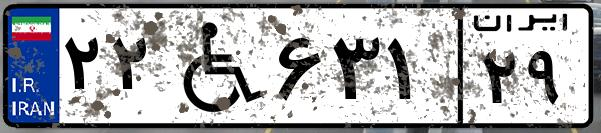1: (385, 28, 445, 110)
2: (57, 26, 110, 100), (475, 38, 525, 113), (110, 28, 158, 98)
3: (330, 28, 385, 110)
6: (270, 28, 330, 110)
9: (525, 38, 570, 115)
ژ (معلولین و جانبازان): (158, 12, 270, 120)
